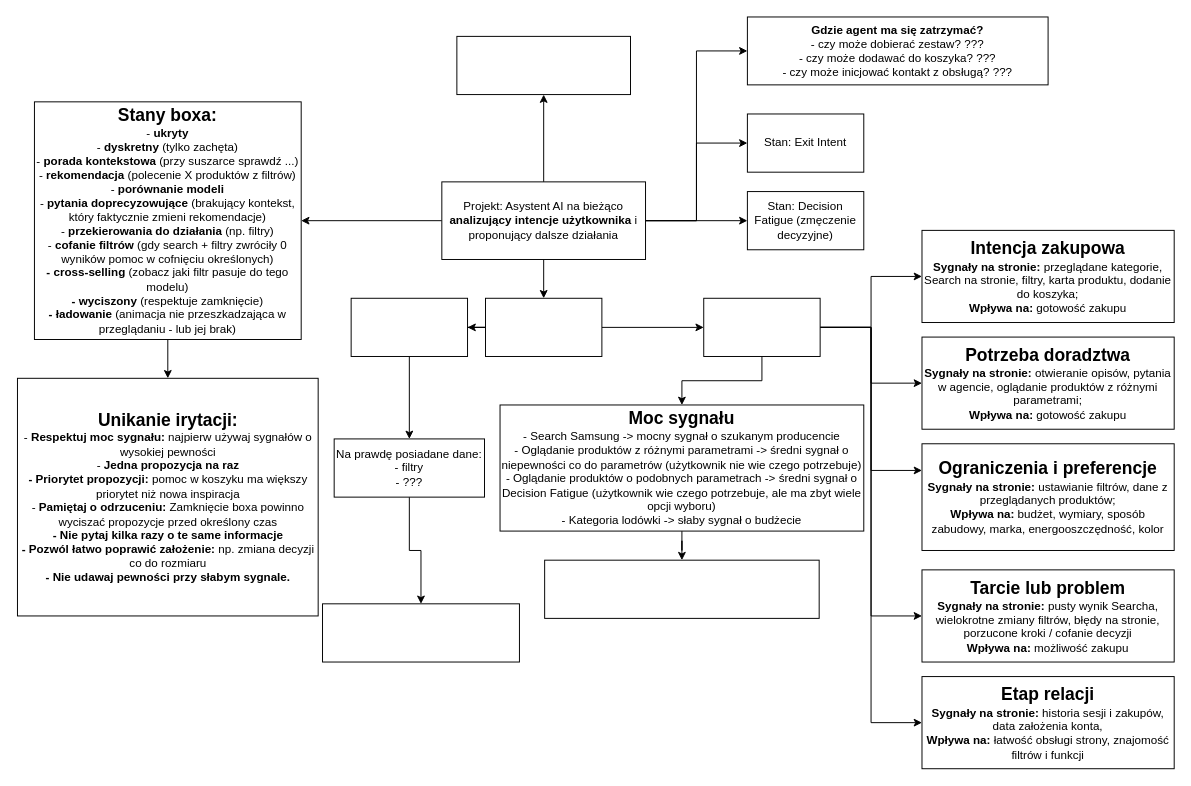
The diagram is 1191 pixels wide and 786 high, and some of its shapes have lost their labels. Each missing label, with the box of its shape:
Cele: - mniej porzuceń - wyższa wartość koszyka - powrót użytkownika: (456, 35, 630, 95)
Funkcja: Analiza intencji użytkownika: (485, 297, 602, 356)
Funkcje personalizacji na stronie: - ??? (np. ulubione marki): (322, 603, 519, 662)
Narzędzie analizy intencji: Model Jev wykonujący analizy na bieżąco: (350, 297, 468, 356)
Stany użytkownika: (703, 297, 820, 356)
Sygnały uzasadniające przerwanie przeglądania: - ???: (544, 559, 819, 618)
